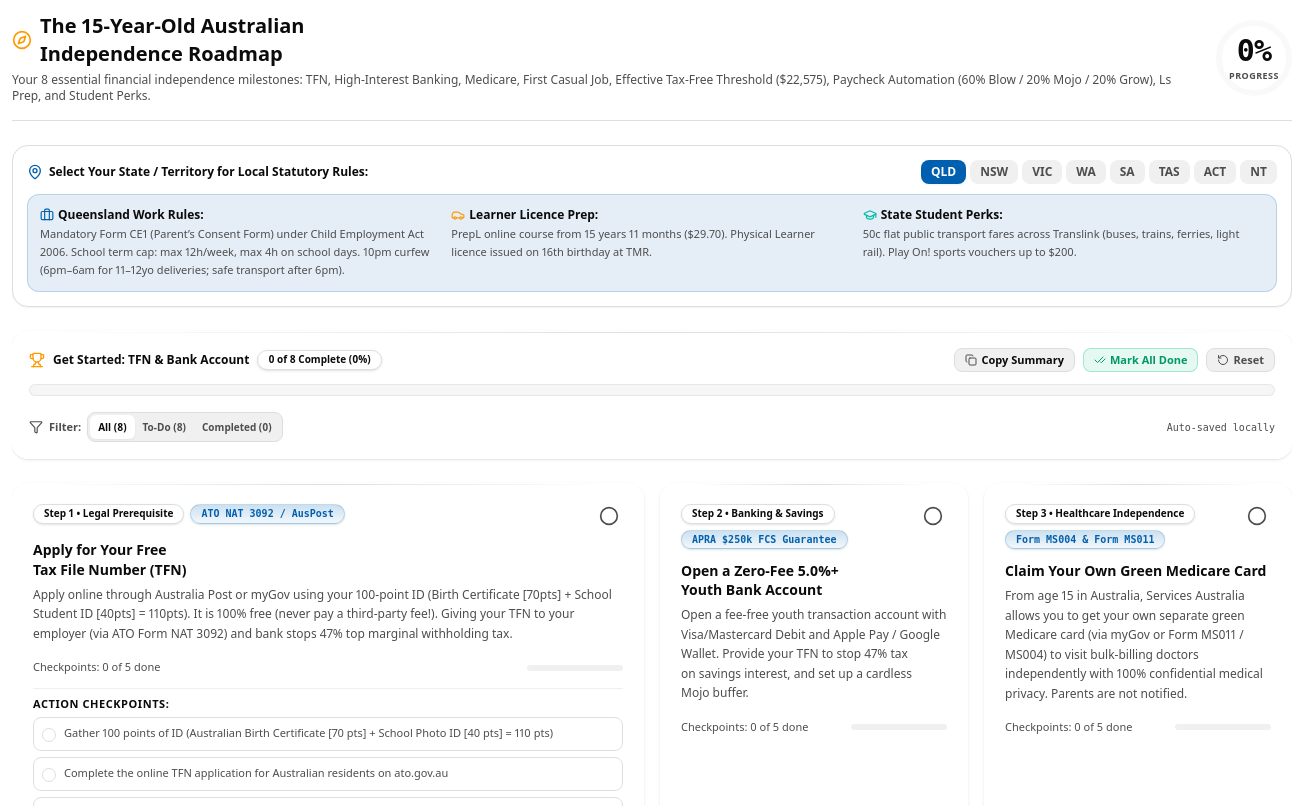
Test case: FifteenYearOldRoadmap Component › switches state to Western Australia and displays Wageline requirements
The width and height of the screenshot is (1292, 806).
Click the button "WA".
click(1086, 172)  # box [1066,160,1106,184]
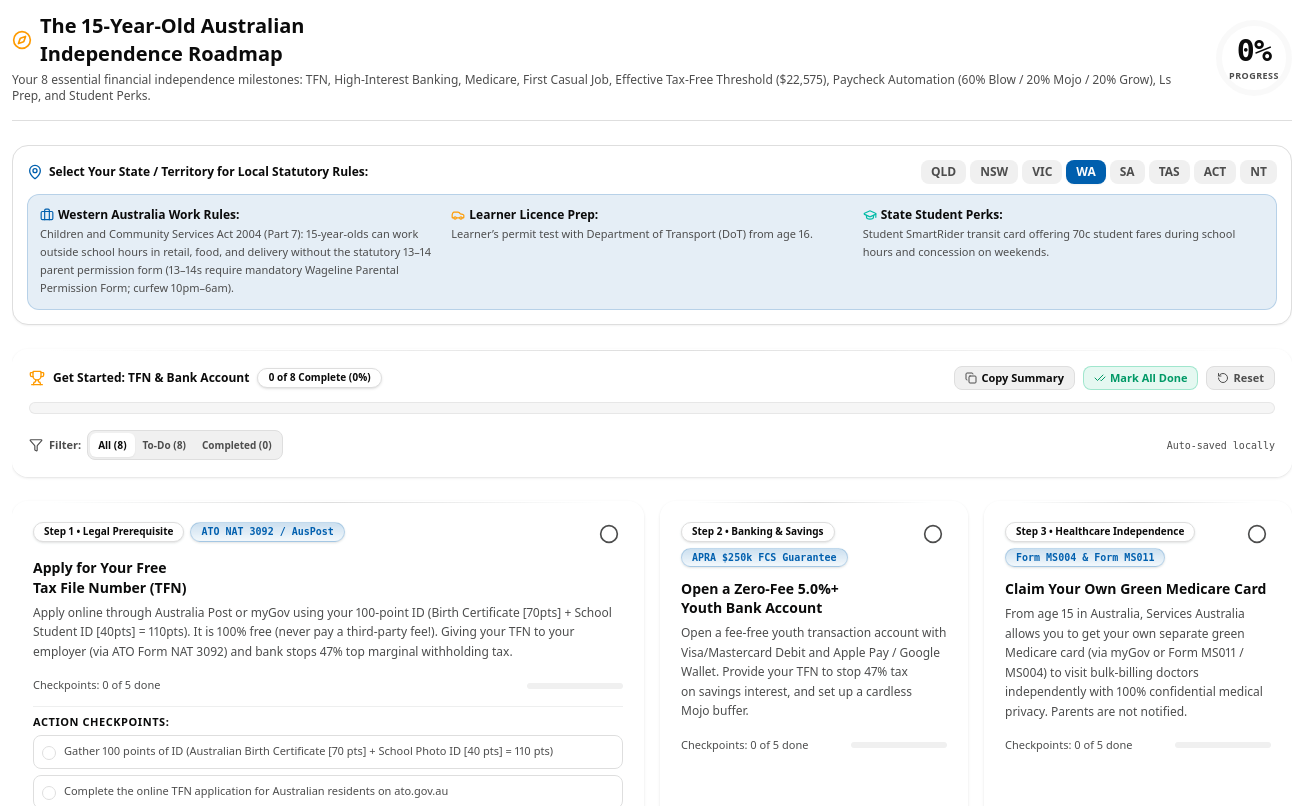
Expected: the text "Western Australia Work Rules:" is shown, [58,207,239,223]
Expected: the text "Wageline" is shown, [40,226,431,295]
